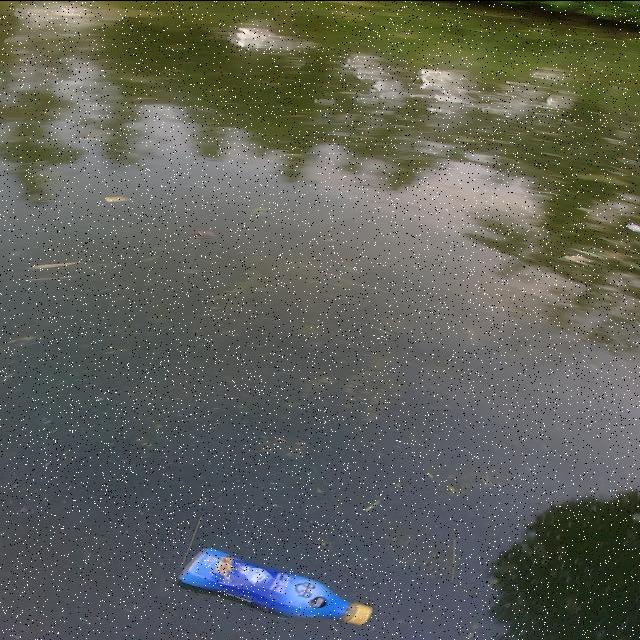Bottle: (168, 538, 377, 631)
